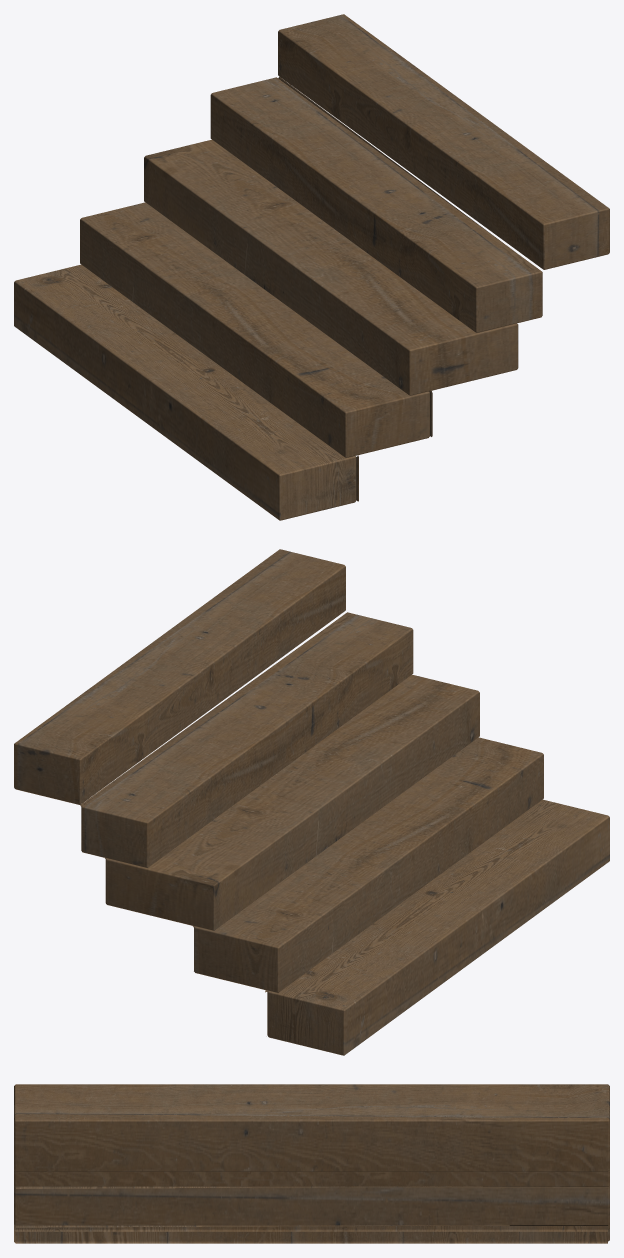
File: SM_Stair04A.fbx
3 views of the same model, one above another, from view 1: azimuth 30°, elevation 25°; view 2: azimuth 150°, elevation 25°; view 3: azimuth 270°, elevation 25° (orthographic). The views are drawn at different scales.
Visible parts, largest first — view 1: SM_Stair04A; view 2: SM_Stair04A; view 3: SM_Stair04A.
Part boxes in pixels (x1,y1,x2,y2): SM_Stair04A: (14,14,609,520); SM_Stair04A: (14,549,609,1055); SM_Stair04A: (14,1084,609,1243).
Bounding box in the file's own units: 177 × 246 × 119.
